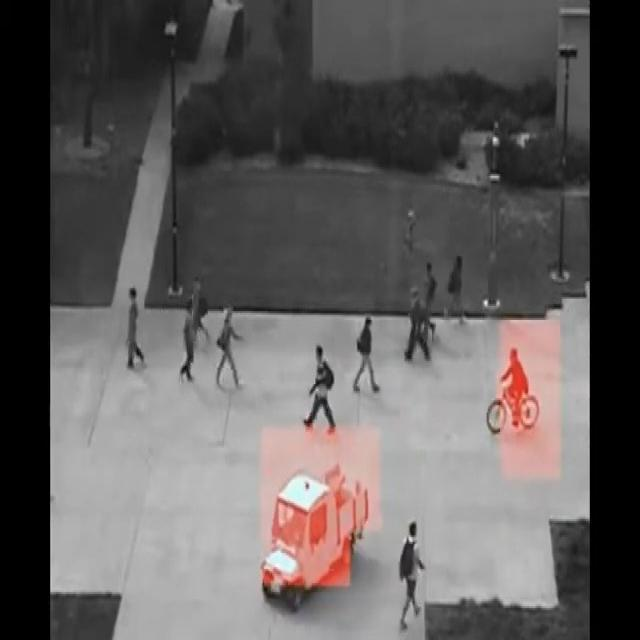anamoly: (243, 439, 379, 621), (479, 331, 570, 453)
